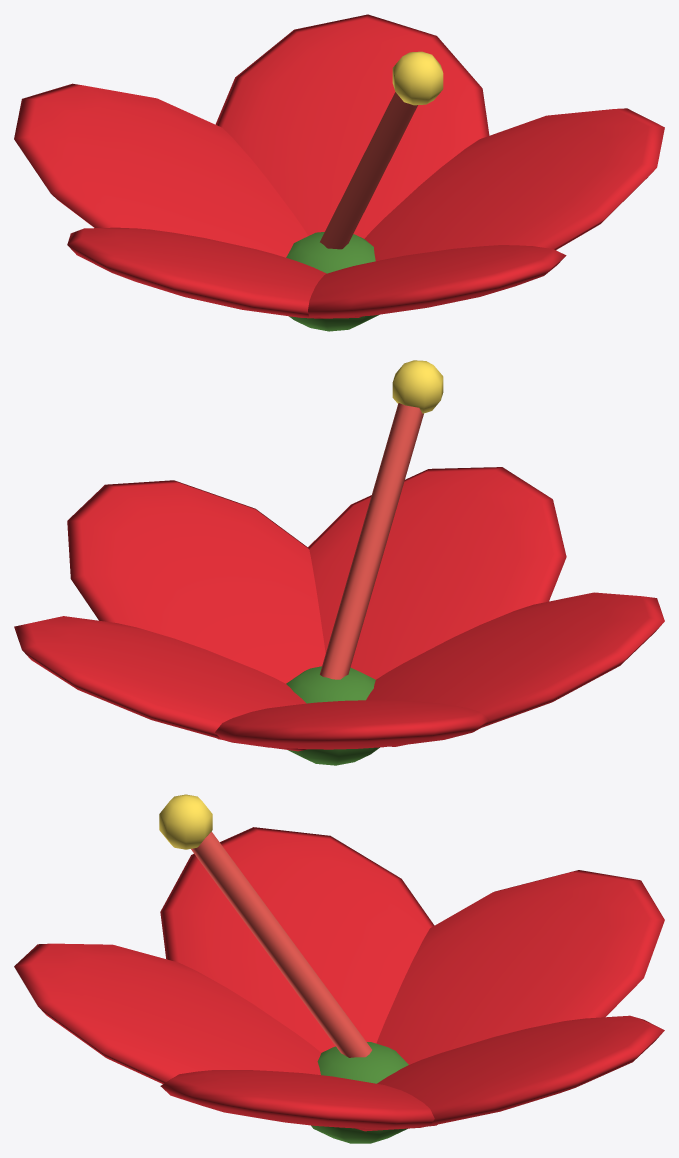
Rendered from hibiscus.glb.
3 renders of one model, top to bottom at view 1: azimuth 30°, elevation 25°; view 2: azimuth 150°, elevation 25°; view 3: azimuth 270°, elevation 25°, orthographic.
Visible parts, largest first — view 1: hibiscus; view 2: hibiscus; view 3: hibiscus.
Part boxes in pixels (x1=…): hibiscus: x1=14, y1=14, x2=664, y2=331; hibiscus: x1=14, y1=360, x2=664, y2=765; hibiscus: x1=14, y1=794, x2=664, y2=1143.
Bounding box in the file's own units: 0.117 × 0.0664 × 0.1155.
